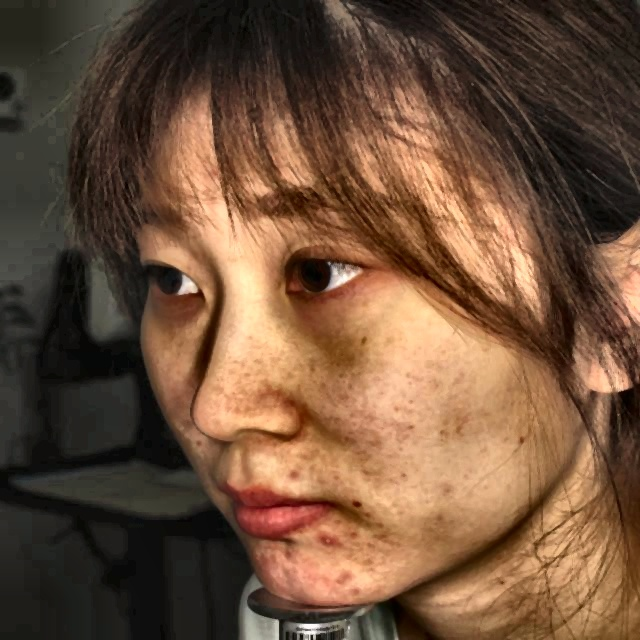comedone: (311, 532, 350, 552), (330, 564, 358, 589), (283, 544, 303, 566)
